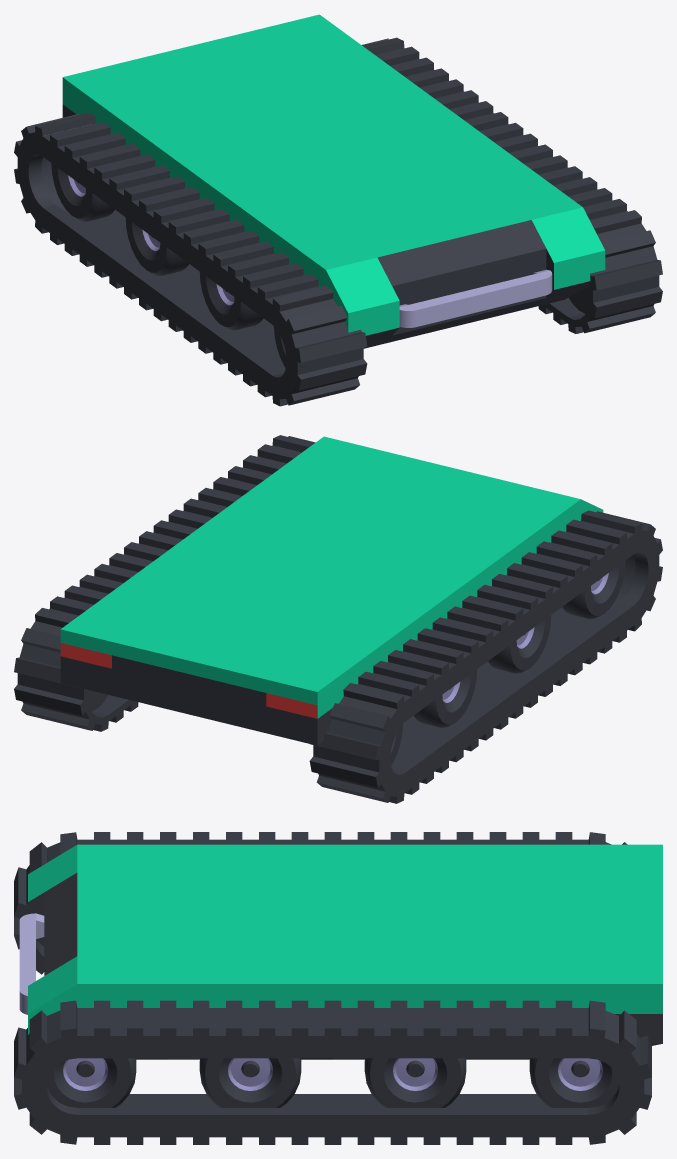
File: BaseB.fbx
The picture shows the model from 3 angles, top to bottom: view 1: azimuth 30°, elevation 25°; view 2: azimuth 150°, elevation 25°; view 3: azimuth 270°, elevation 25°; orthographic projection. The views are drawn at different scales.
Parts seen in each view (by area): view 1: track_wideSide (×4), body_frontTank, track_wideCenter (×4), body_backSolid, body_standard, body_sports, wheel_small (×3), bumper; view 2: body_backSolid, track_wideSide (×4), track_wideCenter (×4), body_standard, body_sports, body_frontTank, wheel_small (×3); view 3: track_wideCenter (×4), track_wideSide (×4), body_backSolid, body_sports, body_standard, body_frontTank, wheel_small (×4), bumper.
Part boxes in pixels (x1,y1,x2,y2): track_wideSide (×4): [14, 37, 662, 406]; body_frontTank: [285, 177, 605, 348]; track_wideCenter (×4): [83, 71, 593, 372]; body_backSolid: [62, 14, 393, 145]; body_standard: [136, 69, 467, 200]; body_sports: [211, 123, 541, 254]; wheel_small (×3): [51, 163, 263, 330]; bumper: [399, 269, 552, 327]; body_backSolid: [60, 575, 391, 745]; track_wideSide (×4): [14, 435, 662, 803]; track_wideCenter (×4): [84, 469, 593, 769]; body_standard: [135, 520, 465, 652]; body_sports: [209, 466, 540, 597]; body_frontTank: [283, 436, 603, 543]; wheel_small (×3): [413, 560, 625, 727]; track_wideCenter (×4): [168, 832, 497, 1144]; track_wideSide (×4): [14, 832, 651, 1144]; body_backSolid: [498, 844, 662, 1059]; body_sports: [168, 844, 332, 1059]; body_standard: [333, 844, 497, 1059]; body_frontTank: [28, 844, 167, 1059]; wheel_small (×4): [46, 1058, 619, 1107]; bumper: [19, 913, 44, 1014].
Size of the model in its own units: 28.16 by 8.9 by 39.34.
